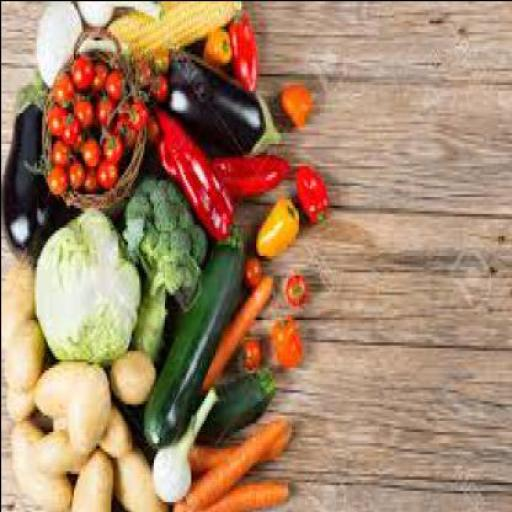biodegradable: (146, 224, 242, 448), (36, 204, 142, 361), (2, 70, 67, 255), (169, 45, 281, 151), (158, 100, 237, 241), (122, 171, 208, 297), (176, 417, 288, 509), (200, 271, 274, 389), (153, 383, 220, 498), (110, 1, 246, 57), (198, 364, 278, 442), (11, 414, 75, 510), (54, 387, 112, 470), (190, 423, 294, 467), (33, 358, 110, 414), (113, 440, 171, 510), (36, 1, 84, 84), (212, 149, 292, 196), (6, 314, 48, 389), (201, 475, 290, 510), (72, 442, 114, 509), (257, 193, 302, 255), (132, 280, 170, 350), (110, 347, 156, 403), (8, 361, 50, 417), (229, 11, 258, 84), (2, 255, 35, 319), (296, 162, 329, 218), (37, 423, 73, 467), (274, 313, 301, 366), (202, 23, 234, 67), (282, 84, 314, 123), (74, 1, 118, 26), (95, 89, 117, 124), (114, 111, 136, 146), (71, 50, 93, 84), (106, 61, 128, 95), (56, 67, 76, 104), (72, 89, 94, 120), (103, 126, 125, 157), (80, 132, 102, 162), (244, 332, 262, 367), (153, 66, 171, 101), (95, 53, 112, 90), (64, 109, 84, 140), (287, 272, 307, 302), (69, 151, 86, 185), (246, 251, 262, 286), (99, 154, 119, 182), (49, 162, 68, 190), (54, 137, 74, 162), (130, 96, 149, 122), (49, 101, 67, 128), (136, 56, 152, 81), (149, 112, 159, 143), (84, 165, 98, 187), (130, 48, 142, 62)
